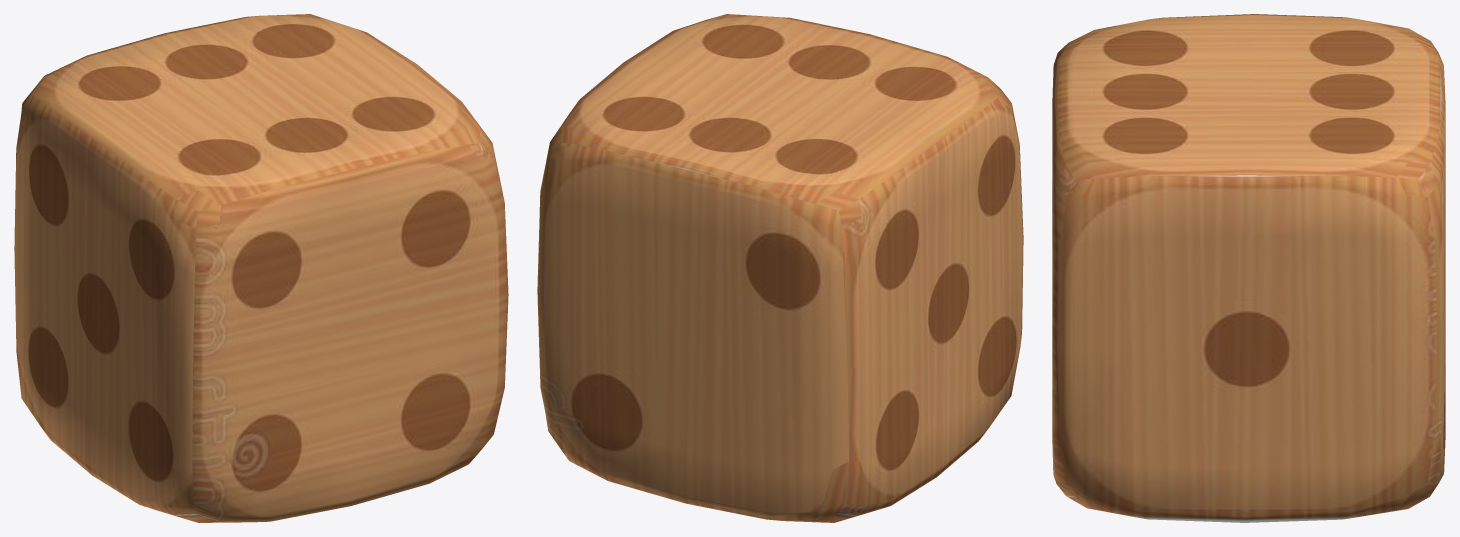
Rendered from Dice.obj.
3 renders of one model, left to right at view 1: azimuth 30°, elevation 25°; view 2: azimuth 150°, elevation 25°; view 3: azimuth 270°, elevation 25°, orthographic. The views are drawn at different scales.
Visible parts, largest first — view 1: Box001; view 2: Box001; view 3: Box001.
Part boxes in pixels (x1=…): Box001: x1=14, y1=14, x2=508, y2=522; Box001: x1=537, y1=14, x2=1023, y2=522; Box001: x1=1052, y1=14, x2=1445, y2=522.
Bounding box in the file's own units: 38.68 × 38.71 × 38.98.
